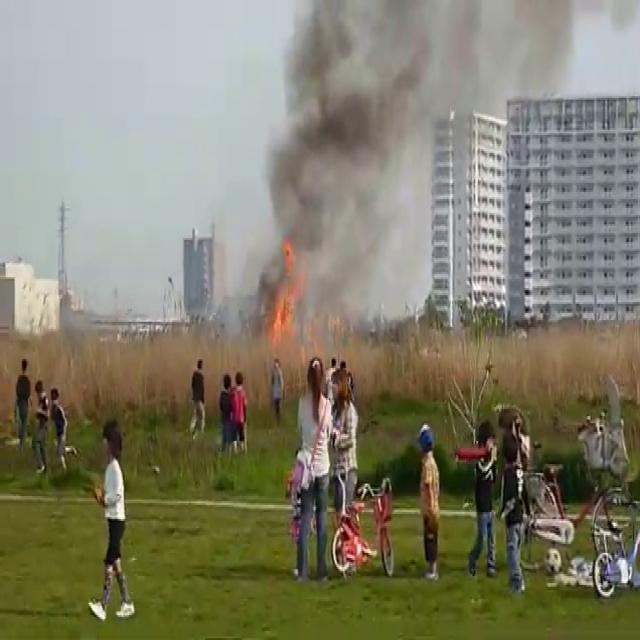Fire: (263, 236, 309, 352)
Smoke: (238, 0, 558, 322), (238, 0, 428, 331)
